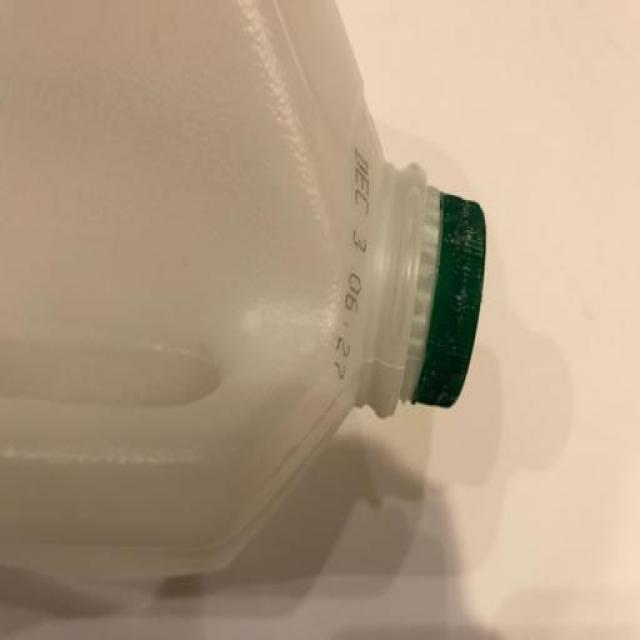plastic_bottle: (9, 18, 489, 591)
